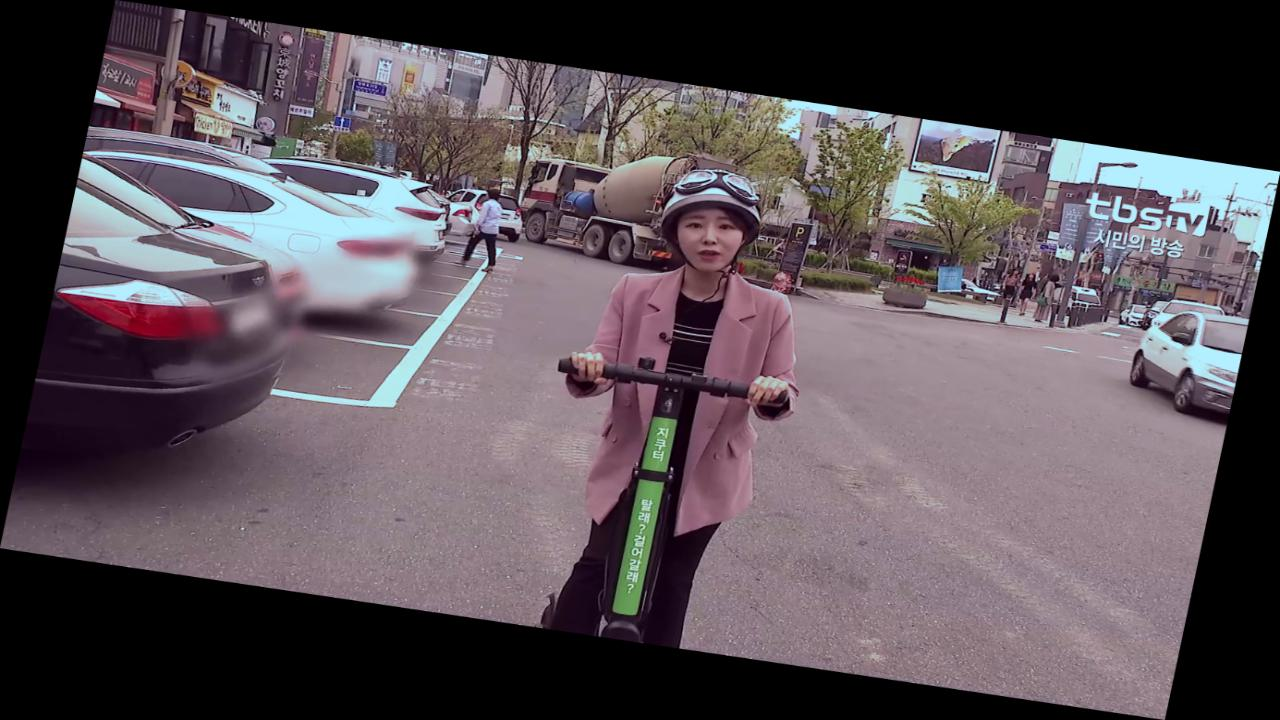helmet: (497, 150, 851, 659)
